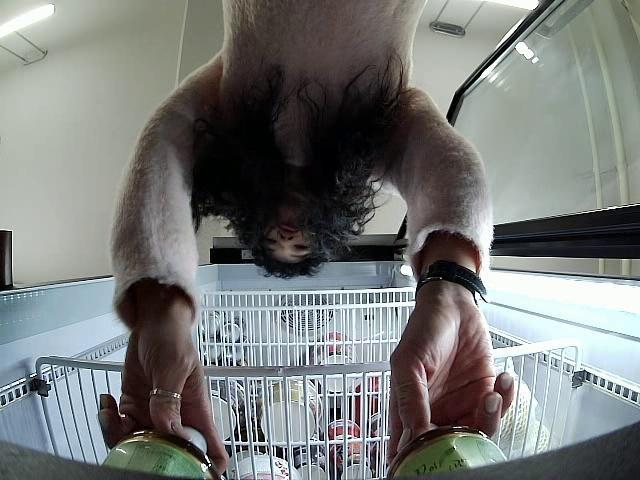19_17cha: (95, 426, 219, 480), (385, 428, 509, 480)
